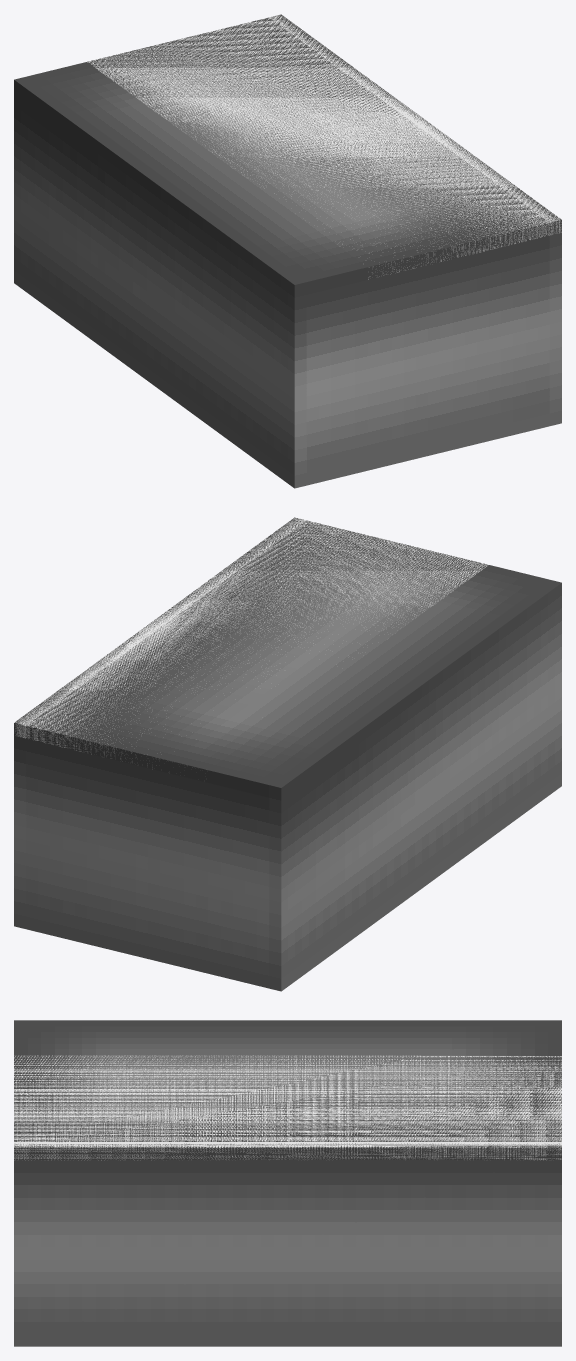
File: Smoke Hood.gltf
The picture shows the model from 3 angles, top to bottom: view 1: azimuth 30°, elevation 25°; view 2: azimuth 150°, elevation 25°; view 3: azimuth 270°, elevation 25°; orthographic projection. The views are drawn at different scales.
Visible parts, largest first — view 1: cube (×5); view 2: cube (×5); view 3: cube (×4).
Part boxes in pixels (x1,y1,x2,y2): cube (×5): [14, 14, 561, 488]; cube (×5): [14, 517, 561, 991]; cube (×4): [14, 1020, 561, 1346].
Bounding box in the file's own units: 0.3439 × 0.2501 × 0.6251.
2 materials, 1 textured.
